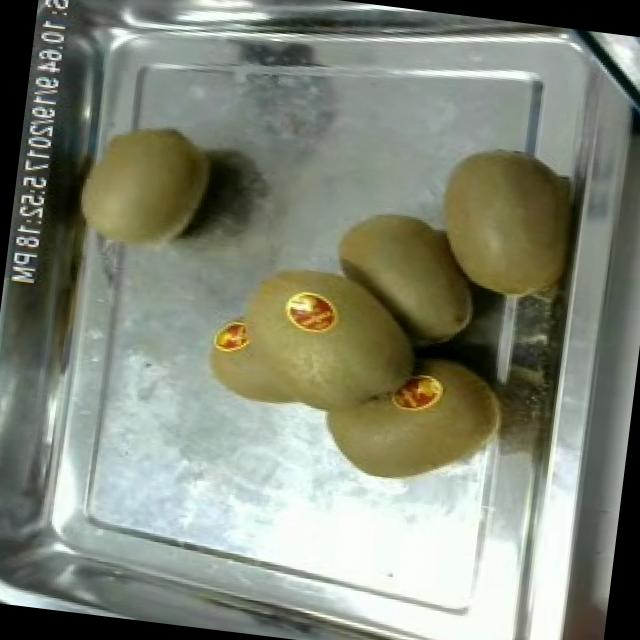Fruit: (194, 247, 440, 438), (306, 342, 507, 502), (420, 134, 582, 312), (315, 198, 492, 360), (64, 112, 222, 266)
